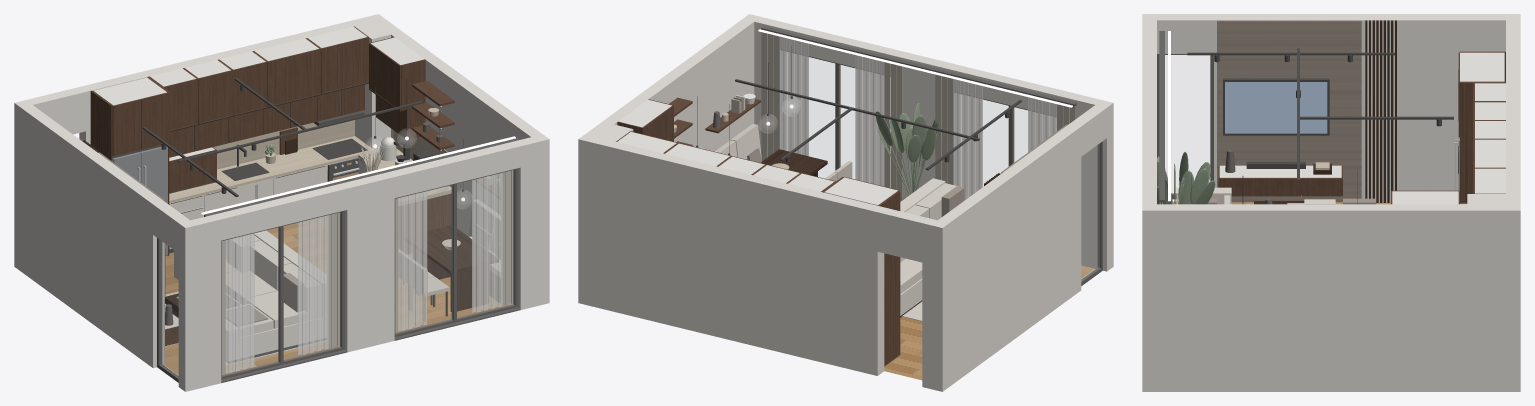
The model's file is hol.glb.
The picture shows the model from 3 angles, left to right: view 1: azimuth 30°, elevation 25°; view 2: azimuth 150°, elevation 25°; view 3: azimuth 270°, elevation 25°; orthographic projection. The views are drawn at different scales.
Bounding box in the file's own units: 6.28 × 2.7 × 5.11.
Materials: 73 (6 with a texture image).
